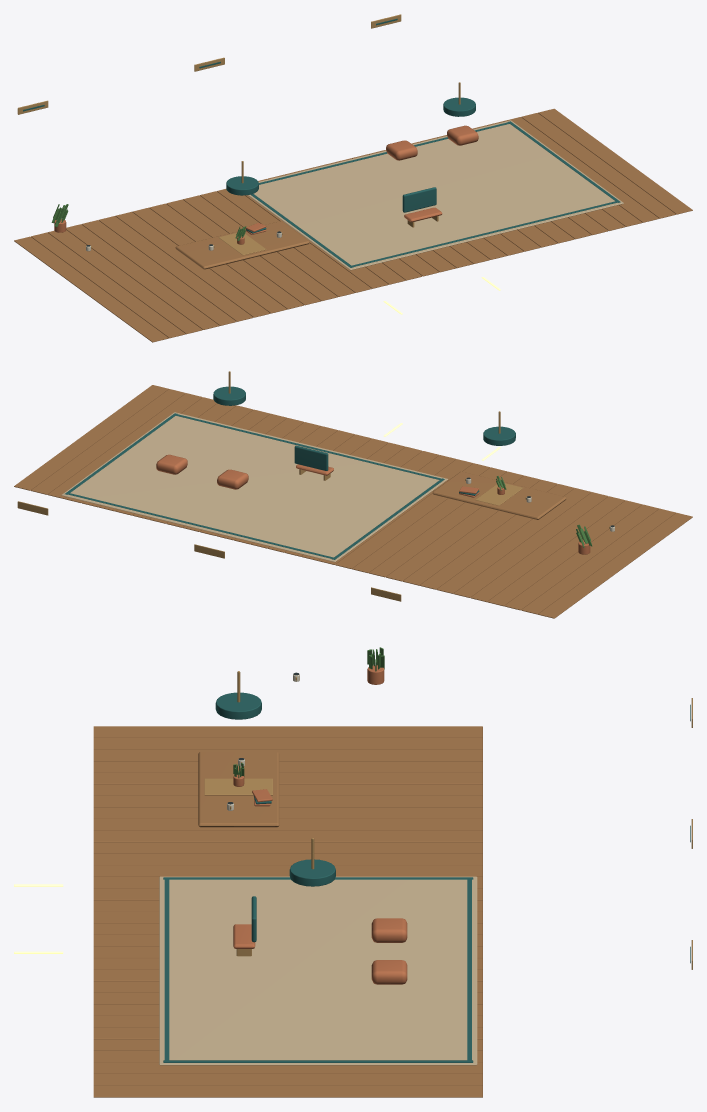
Rendered from habitat-lounge.glb.
3 renders of one model, top to bottom at view 1: azimuth 30°, elevation 25°; view 2: azimuth 150°, elevation 25°; view 3: azimuth 270°, elevation 25°, orthographic. The views are drawn at different scales.
Visible parts, largest first — view 1: Woven lounge carpet, Table timber top, Lounge timber plank, Lounge timber plank.001, Lounge timber plank.004, Lounge timber plank.030, Lounge timber plank.031, Lounge timber plank.005, Lounge timber plank.003, Lounge timber plank.002, Lounge timber plank.006, Lounge timber plank.008 (+13 smaller); view 2: Woven lounge carpet, Table timber top, Lounge timber plank, Lounge timber plank.031, Lounge timber plank.001, Lounge timber plank.005, Lounge timber plank.030, Lounge timber plank.004, Lounge timber plank.002, Lounge timber plank.006, Lounge timber plank.003, Lounge timber plank.007 (+32 smaller); view 3: Woven lounge carpet, Lounge timber plank.031, Lounge timber plank.009, Table timber top, Lounge timber plank, Lounge timber plank.001, Lounge timber plank.030, Lounge timber plank.010, Lounge timber plank.011, Lounge timber plank.002, Lounge timber plank.012, Lounge timber plank.008 (+31 smaller).
Boxes of the visible parts, x1,y1,x2,y2 form: Woven lounge carpet: (248,120,623,270); Table timber top: (175,221,309,269); Lounge timber plank: (14,236,168,342); Lounge timber plank.001: (31,232,185,338); Lounge timber plank.004: (81,220,236,325); Lounge timber plank.030: (521,113,675,218); Lounge timber plank.031: (538,108,692,214); Lounge timber plank.005: (98,216,253,321); Lounge timber plank.003: (66,224,219,329); Lounge timber plank.002: (47,230,202,334); Lounge timber plank.006: (115,211,270,317); Lounge timber plank.008: (149,203,303,309); Woven lounge carpet: (61,412,447,561); Table timber top: (432,471,566,519); Lounge timber plank: (538,512,692,618); Lounge timber plank.031: (14,385,168,490); Lounge timber plank.001: (521,508,675,614); Lounge timber plank.005: (453,492,608,597); Lounge timber plank.030: (31,389,185,494); Lounge timber plank.004: (470,496,625,602); Lounge timber plank.002: (504,504,659,610); Lounge timber plank.006: (436,488,591,593); Lounge timber plank.003: (487,500,642,606); Lounge timber plank.007: (419,484,574,589); Woven lounge carpet: (159,876,477,1065); Lounge timber plank.031: (93,1085,482,1097); Lounge timber plank.009: (93,830,482,842); Table timber top: (198,752,279,827); Lounge timber plank: (93,726,482,737); Lounge timber plank.001: (93,738,482,749); Lounge timber plank.030: (93,1074,482,1085); Lounge timber plank.010: (93,842,482,853); Lounge timber plank.011: (93,854,482,865); Lounge timber plank.002: (93,749,482,761); Lounge timber plank.012: (93,865,482,876); Lounge timber plank.008: (93,819,482,830).
Size of the model in its own units: 15.99 by 3.25 by 12.38.
